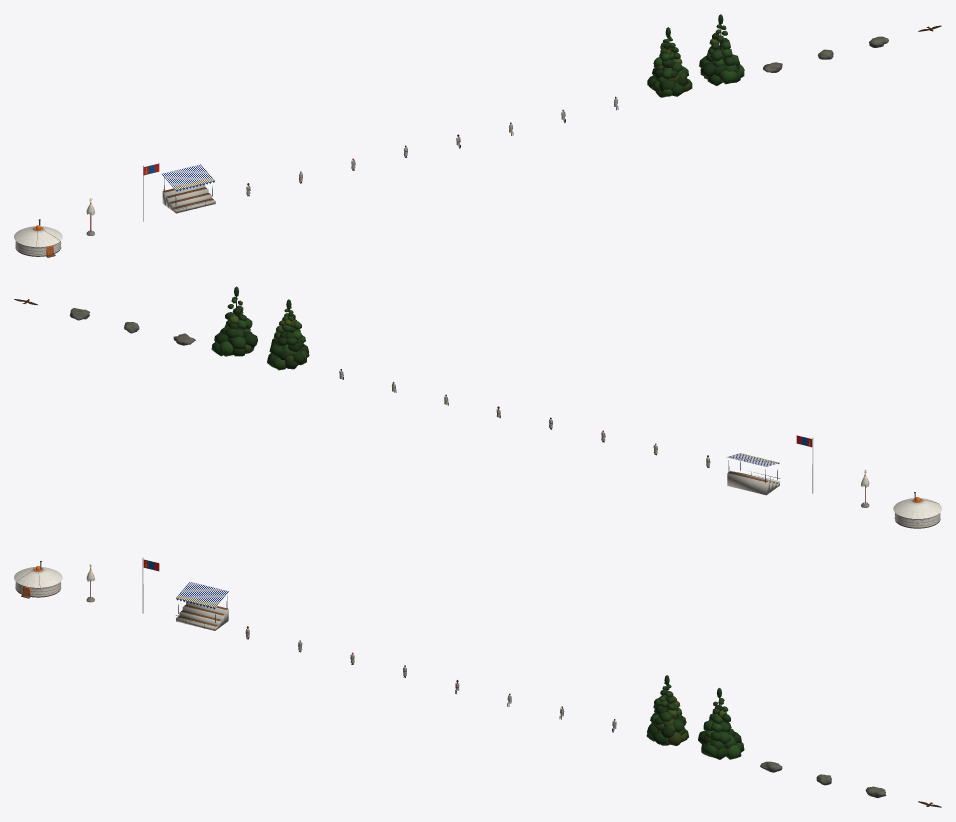
The model's file is naadam_props.glb.
3 renders of one model, top to bottom at view 1: azimuth 30°, elevation 25°; view 2: azimuth 150°, elevation 25°; view 3: azimuth 330°, elevation 25°, orthographic.
Parts seen in each view (by area): view 1: StandSegment, Larch, Larch_Far, Ger; view 2: Larch, Larch_Far, Ger, StandSegment; view 3: StandSegment, Larch_Far, Larch, Ger.
Part boxes in pixels (<box>): StandSegment: <box>162,164,215,213</box>; Larch: <box>647,27,692,97</box>; Larch_Far: <box>699,14,744,85</box>; Ger: <box>14,219,62,257</box>; Larch: <box>267,299,309,370</box>; Larch_Far: <box>211,286,257,356</box>; Ger: <box>893,492,941,528</box>; StandSegment: <box>726,453,780,495</box>; StandSegment: <box>176,582,229,630</box>; Larch_Far: <box>698,688,744,759</box>; Larch: <box>646,675,688,745</box>; Ger: <box>14,561,62,598</box>.
Bounding box in the file's own units: 141 × 10.4 × 7.33.
Materials: 32 (8 with a texture image).
